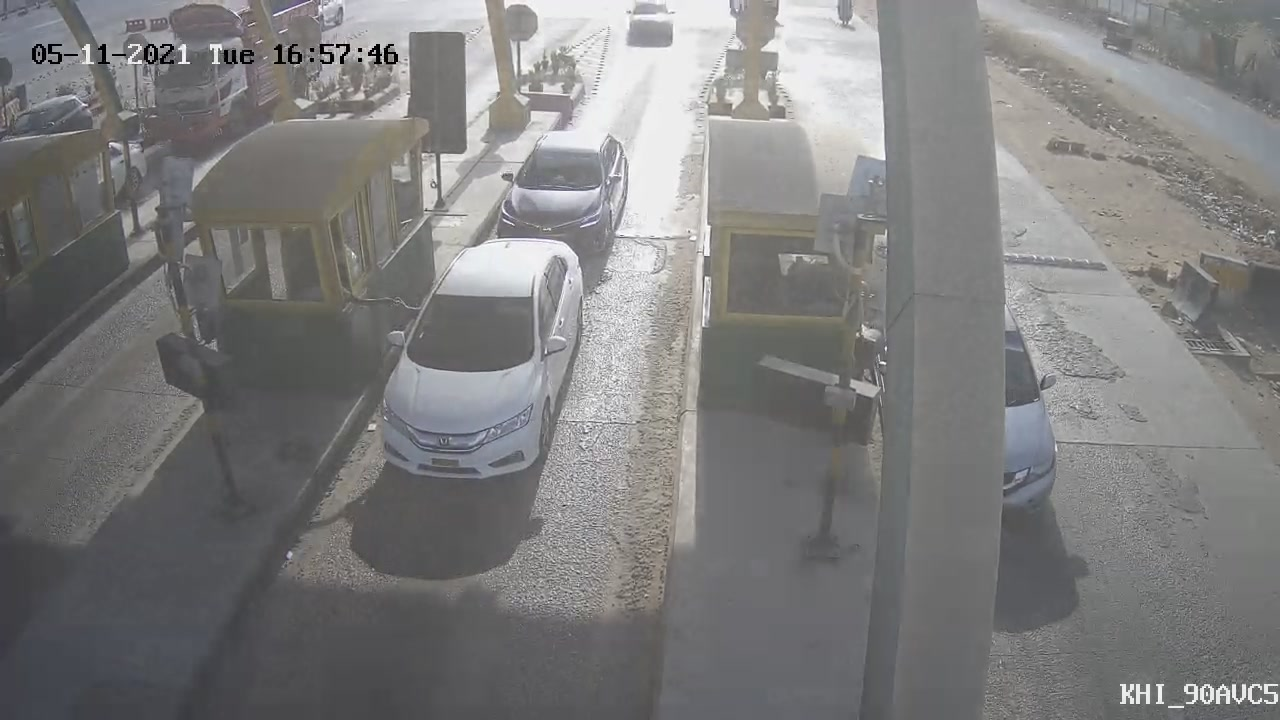F1: (352, 220, 609, 508), (479, 111, 644, 279)
